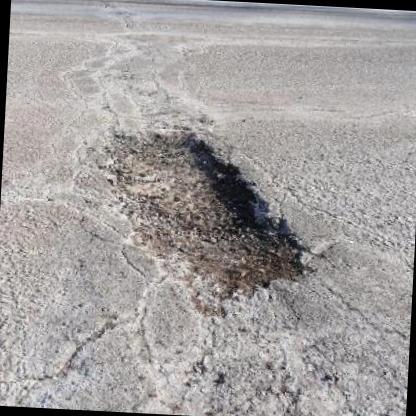pothole: (84, 119, 320, 315)
